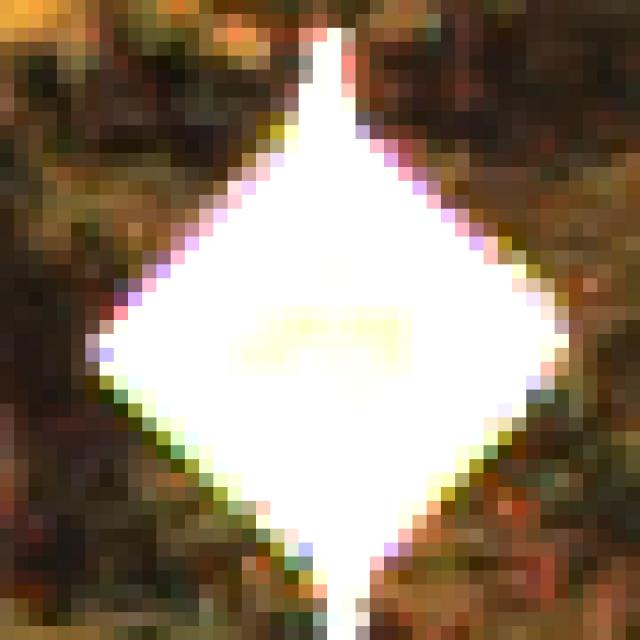Main Road: (72, 71, 570, 572)
